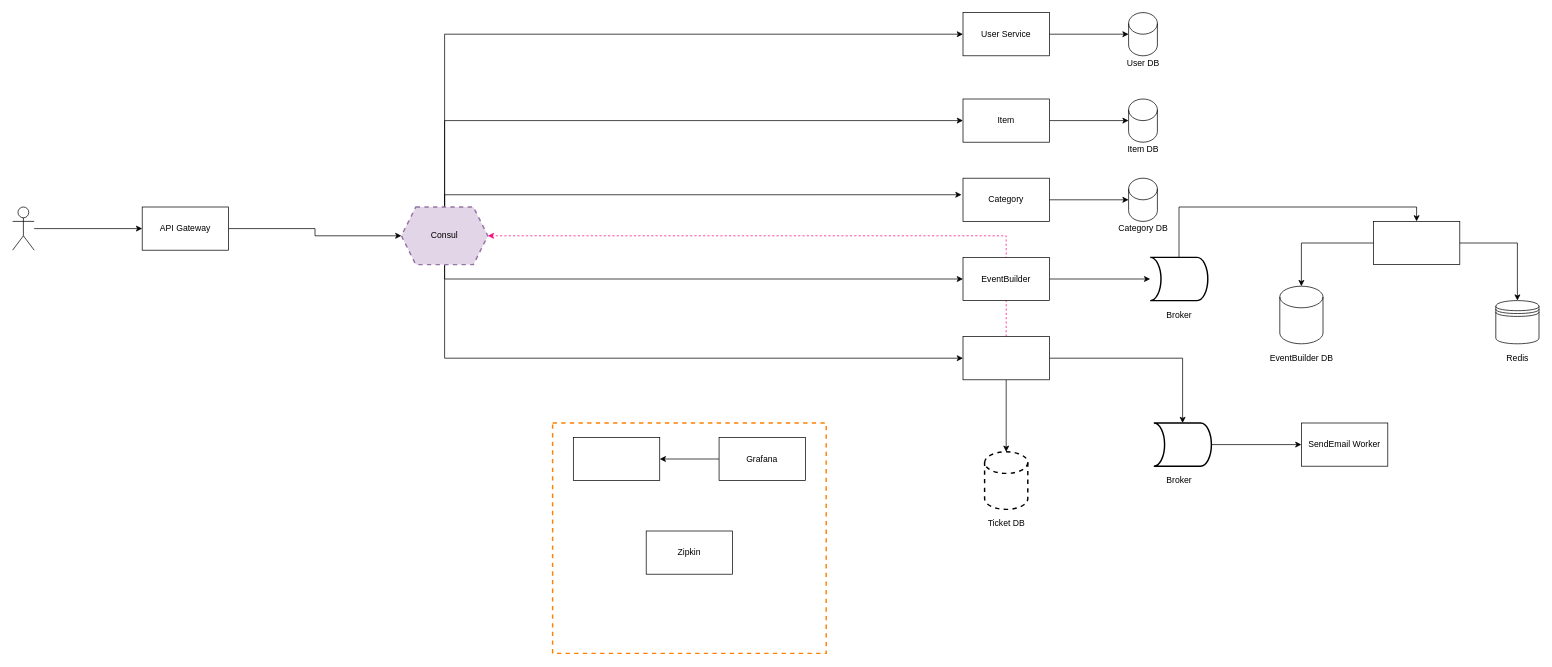
Image size: 1552x667. Some labels were removed from this diagram. The shapes that lost their labels are listed below. From the top down, each one's box as (x1, y1, x2, y2) in pixels, then its label:
(12, 206, 34, 250): Actor
(1373, 221, 1460, 265): Woker
(962, 336, 1049, 380): Ticket
(573, 437, 660, 481): Prometheus
